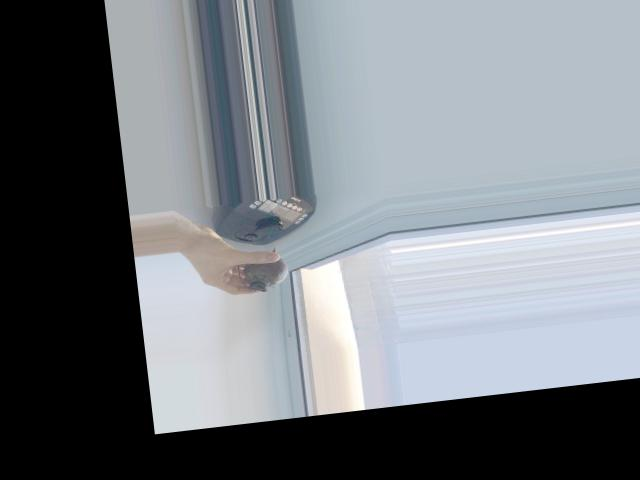beet: (237, 245, 290, 294)
